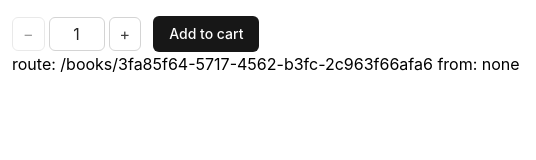
Test case: AddToCartButton › addToCartButton_whenServerReportsInsufficientStock_showsServersAvailableStock
Click the button "Add to cart" at (206, 34), box [153, 16, 260, 52]
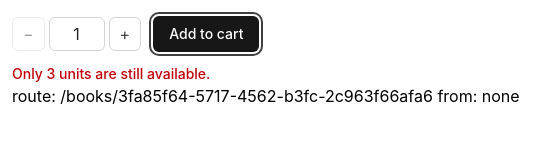
Check: the message reads "Only 3 units are still available.", box [12, 65, 210, 82]
